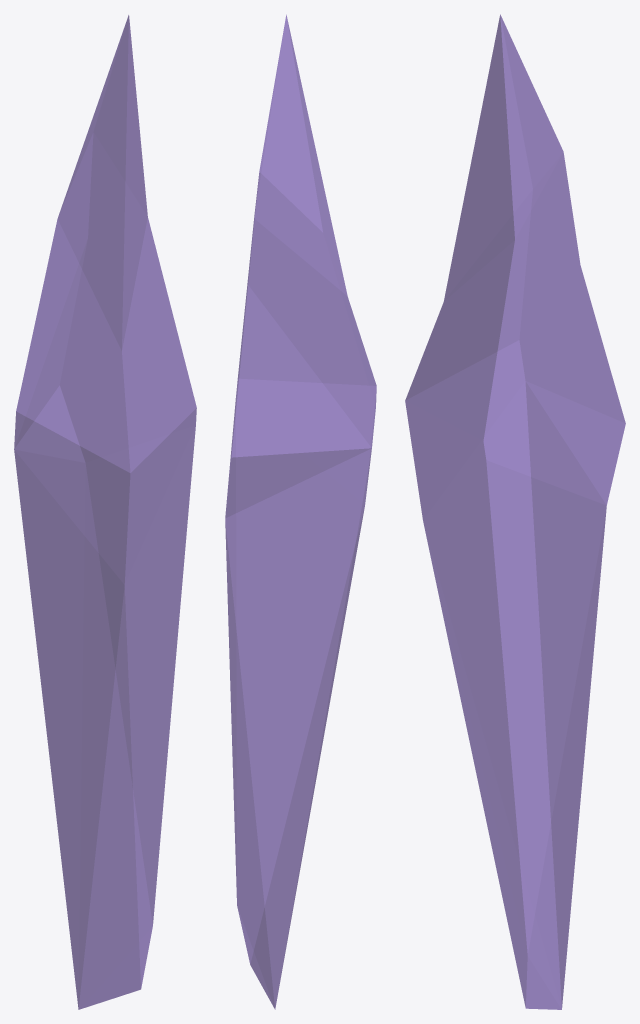
The model's file is Crystal_New_12.fbx.
3 renders of one model, left to right at view 1: azimuth 30°, elevation 25°; view 2: azimuth 150°, elevation 25°; view 3: azimuth 270°, elevation 25°, orthographic. The views are drawn at different scales.
Visible parts, largest first — view 1: Model; view 2: Model; view 3: Model.
Boxes of the visible parts, x1,y1,x2,y2 form: Model: [14, 15, 196, 1009]; Model: [225, 14, 376, 1009]; Model: [405, 14, 625, 1009].
Bounding box in the file's own units: 112 × 665 × 132.
